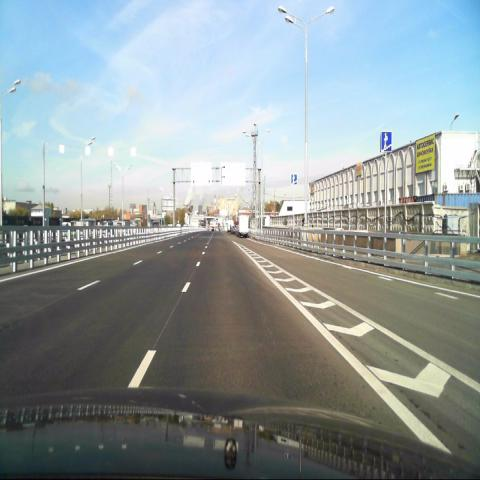6_6: (380, 130, 392, 154)
